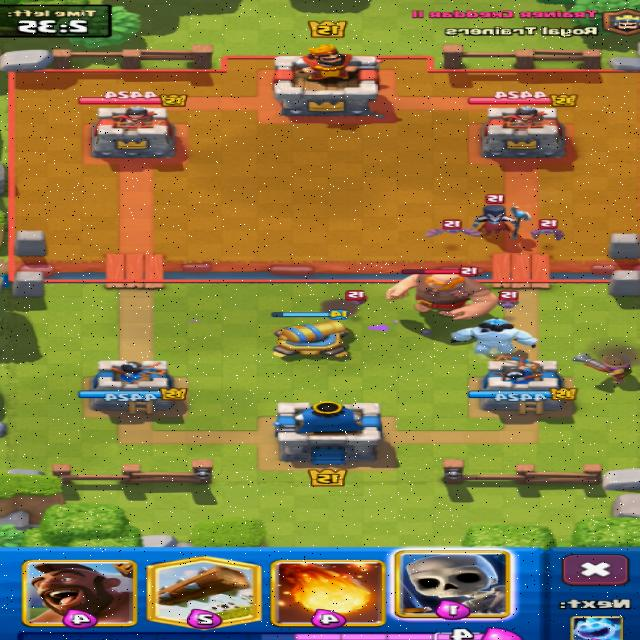Enemy-Bat: (427, 220, 479, 236), (532, 220, 565, 240), (499, 290, 519, 308), (346, 290, 367, 305)
Enemy-KingTower: (275, 44, 381, 115)
Enemy-NightWitch: (474, 205, 531, 237)
Enemy-PrincessTower: (92, 105, 175, 159), (482, 106, 564, 157)
Player-Cannon: (277, 322, 348, 356)
Player-IceGolem: (452, 318, 537, 355)
Player-KingTower: (274, 400, 382, 466)
Player-Musketeer: (573, 353, 631, 382)
Player-PrincessTower: (469, 354, 577, 411), (80, 361, 188, 414)
